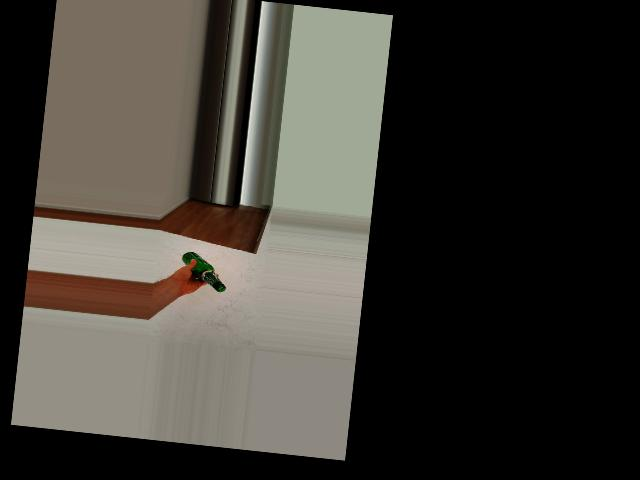beer: (179, 251, 229, 293)
